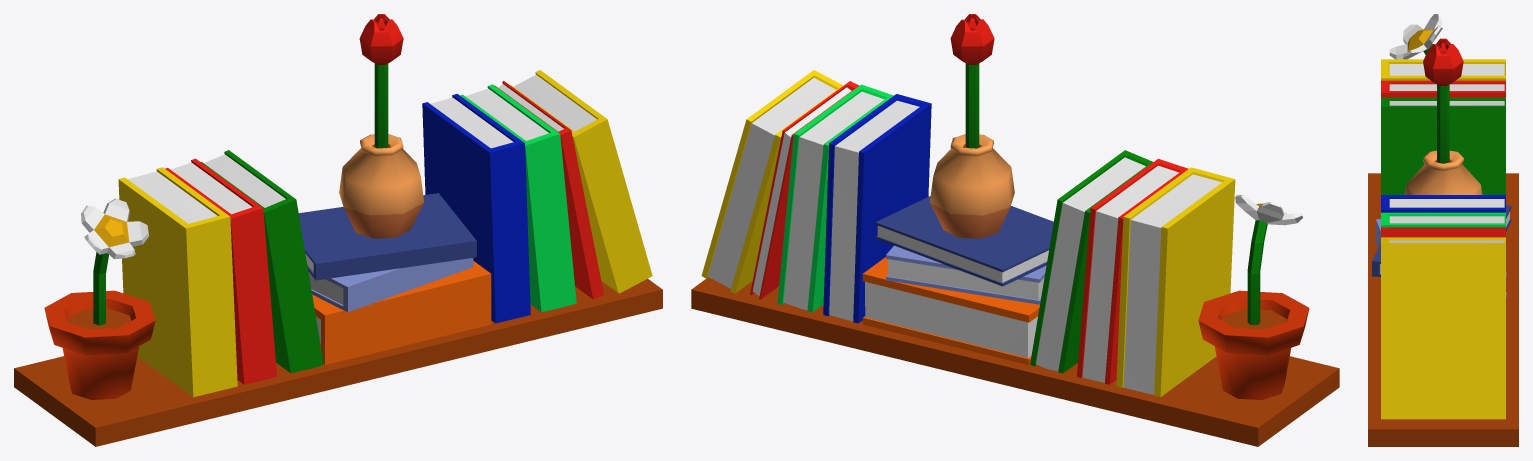
Rendered from Prateleira.fbx.
The picture shows the model from 3 angles, left to right: view 1: azimuth 30°, elevation 25°; view 2: azimuth 150°, elevation 25°; view 3: azimuth 270°, elevation 25°; orthographic projection. The views are drawn at different scales.
Parts seen in each view (by area): view 1: Prateleira, Bookshelf.002, Bookshelf.009, vasoMargarida, Bookshelf.012, Bookshelf.008, vasoFlor.001, Bookshelf.010, Bookshelf.004, Bookshelf.006, Bookshelf.003, Bookshelf.011 (+1 smaller); view 2: Prateleira, Bookshelf.002, Bookshelf.009, vasoMargarida, Bookshelf.008, Bookshelf.012, vasoFlor.001, Bookshelf.010, Bookshelf.004, Bookshelf.003, Bookshelf.006, Bookshelf.011 (+1 smaller); view 3: Bookshelf.012, Prateleira, Bookshelf.004, vasoFlor.001, Bookshelf.009, Bookshelf.003, Bookshelf.010, Bookshelf.002, Bookshelf.011, vasoMargarida, Bookshelf.006, Bookshelf.007.
Part boxes in pixels (x1=…): Prateleira: x1=14, y1=278, x2=662, y2=446; Bookshelf.002: x1=118, y1=167, x2=237, y2=397; Bookshelf.009: x1=422, y1=93, x2=530, y2=323; vasoMargarida: x1=44, y1=198, x2=155, y2=399; Bookshelf.012: x1=510, y1=70, x2=652, y2=293; Bookshelf.008: x1=312, y1=261, x2=491, y2=364; vasoFlor.001: x1=339, y1=14, x2=424, y2=238; Bookshelf.010: x1=460, y1=84, x2=576, y2=312; Bookshelf.004: x1=201, y1=150, x2=323, y2=373; Bookshelf.006: x1=298, y1=193, x2=476, y2=280; Bookshelf.003: x1=165, y1=158, x2=276, y2=384; Bookshelf.011: x1=494, y1=81, x2=603, y2=299; Prateleira: x1=691, y1=277, x2=1339, y2=446; Bookshelf.002: x1=1116, y1=167, x2=1235, y2=397; Bookshelf.009: x1=823, y1=94, x2=931, y2=323; vasoMargarida: x1=1198, y1=195, x2=1309, y2=399; Bookshelf.008: x1=862, y1=257, x2=1039, y2=364; Bookshelf.012: x1=701, y1=70, x2=843, y2=293; vasoFlor.001: x1=930, y1=14, x2=1014, y2=238; Bookshelf.010: x1=777, y1=84, x2=893, y2=312; Bookshelf.004: x1=1030, y1=150, x2=1152, y2=373; Bookshelf.003: x1=1077, y1=158, x2=1188, y2=384; Bookshelf.006: x1=875, y1=196, x2=1053, y2=286; Bookshelf.011: x1=750, y1=81, x2=859, y2=299; Bookshelf.012: x1=1381, y1=237, x2=1505, y2=419; Prateleira: x1=1368, y1=173, x2=1518, y2=446; Bookshelf.004: x1=1381, y1=97, x2=1505, y2=194; vasoFlor.001: x1=1404, y1=38, x2=1482, y2=194; Bookshelf.009: x1=1381, y1=195, x2=1505, y2=212; Bookshelf.003: x1=1381, y1=80, x2=1505, y2=97; Bookshelf.010: x1=1381, y1=212, x2=1505, y2=227; Bookshelf.002: x1=1381, y1=59, x2=1505, y2=80; Bookshelf.011: x1=1381, y1=227, x2=1505, y2=237; vasoMargarida: x1=1389, y1=14, x2=1442, y2=59; Bookshelf.006: x1=1372, y1=205, x2=1511, y2=276; Bookshelf.007: x1=1375, y1=219, x2=1506, y2=297.
Size of the model in its own units: 110 by 59.11 by 27.28.
